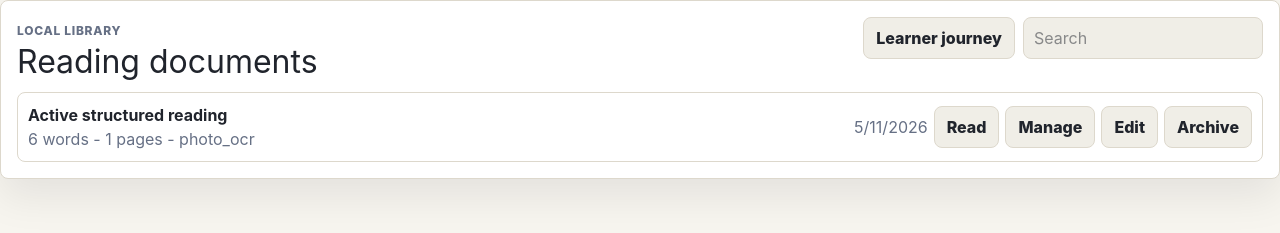
Test: LibraryList structured search › keeps archived structured documents out of search results
The image size is (1280, 233).
Type "hidden structured match" into the search field named "Search documents" at (1143, 38), box [1023,17,1263,59]
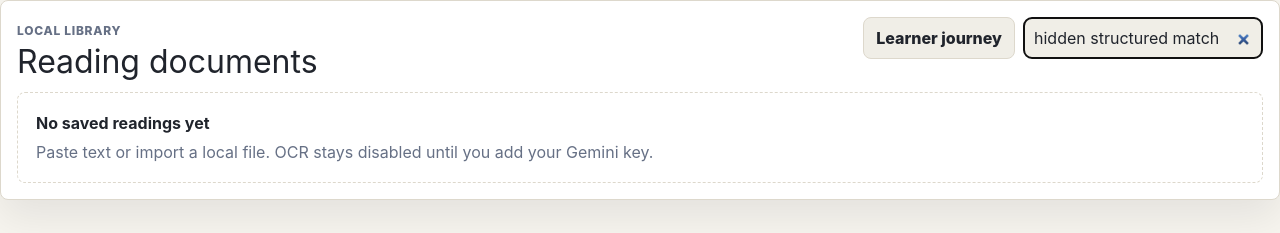
Expected: the text "No saved readings yet" is shown, [36,113,210,133]
